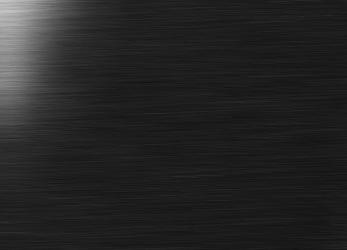Airbag: (0, 0, 347, 250), (335, 0, 347, 250)
